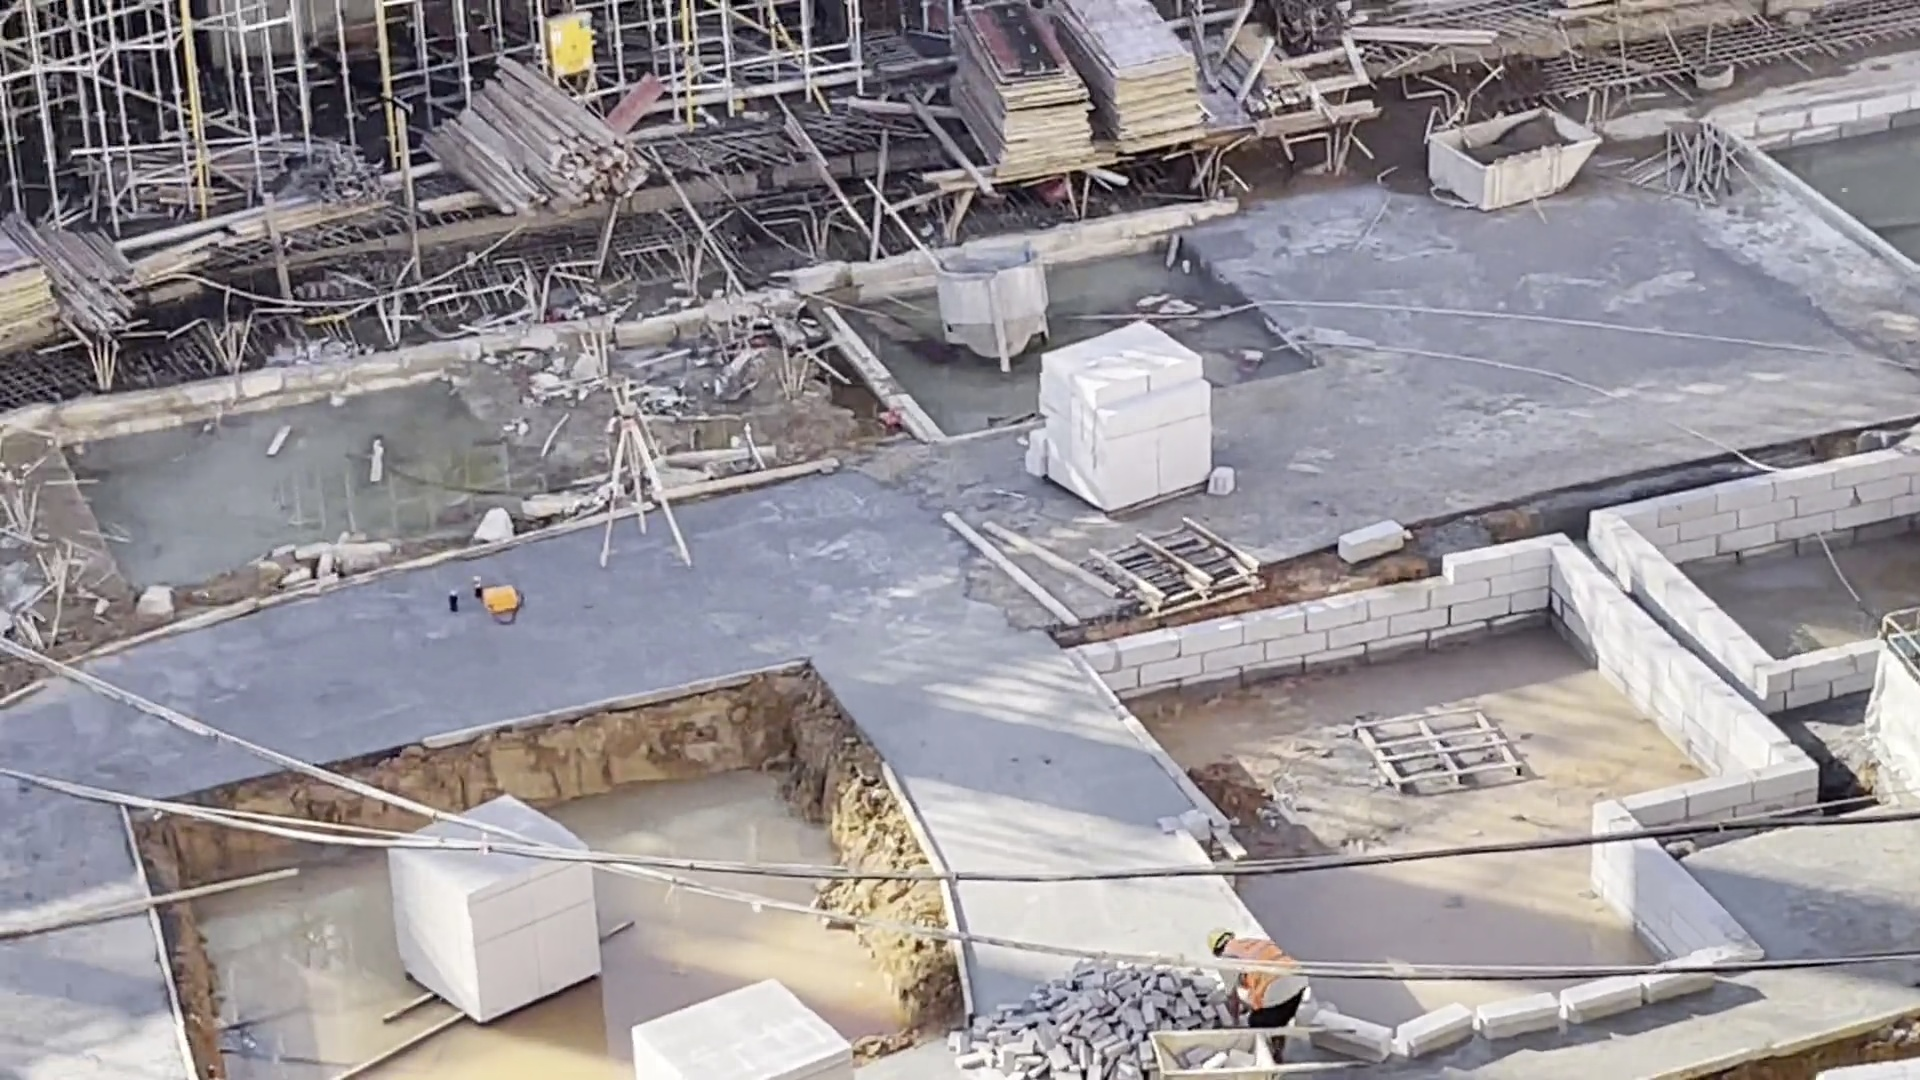board: (941, 36, 1081, 194), (1089, 1, 1198, 156)
brick: (1040, 323, 1226, 510), (404, 823, 596, 994), (651, 981, 820, 1080)
ebox: (536, 2, 599, 77)
helmet: (1211, 931, 1236, 949)
hopper: (1433, 111, 1604, 204)
person: (1204, 915, 1301, 1050)
vest: (1243, 932, 1311, 1009)
wood: (449, 76, 659, 202)
